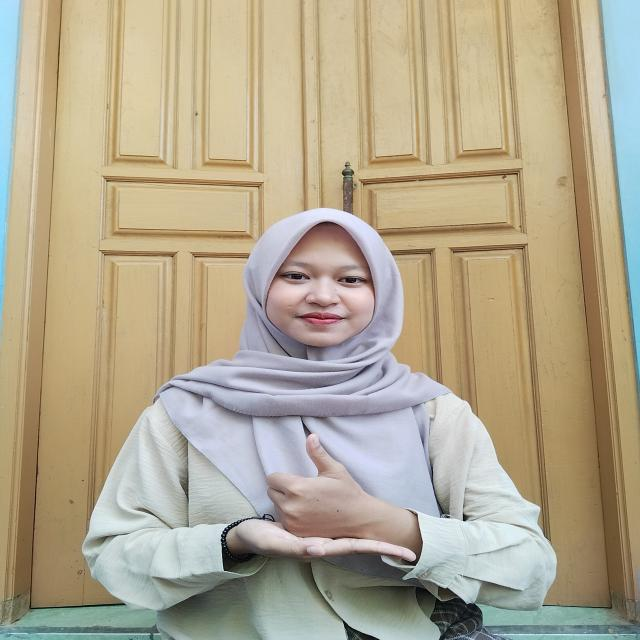cantik: (220, 424, 424, 591)
